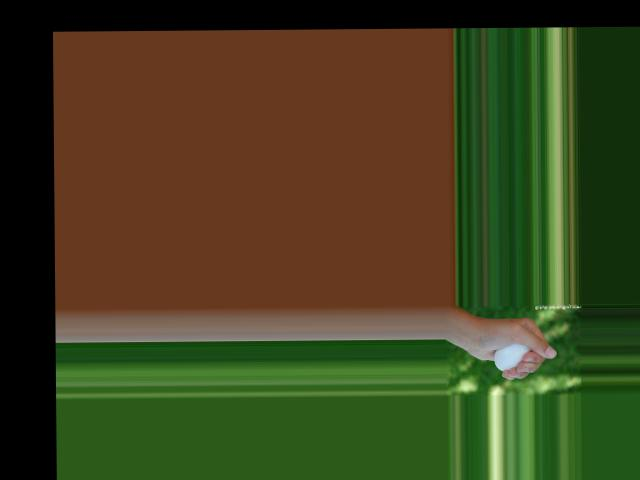egg: (494, 343, 531, 371)
